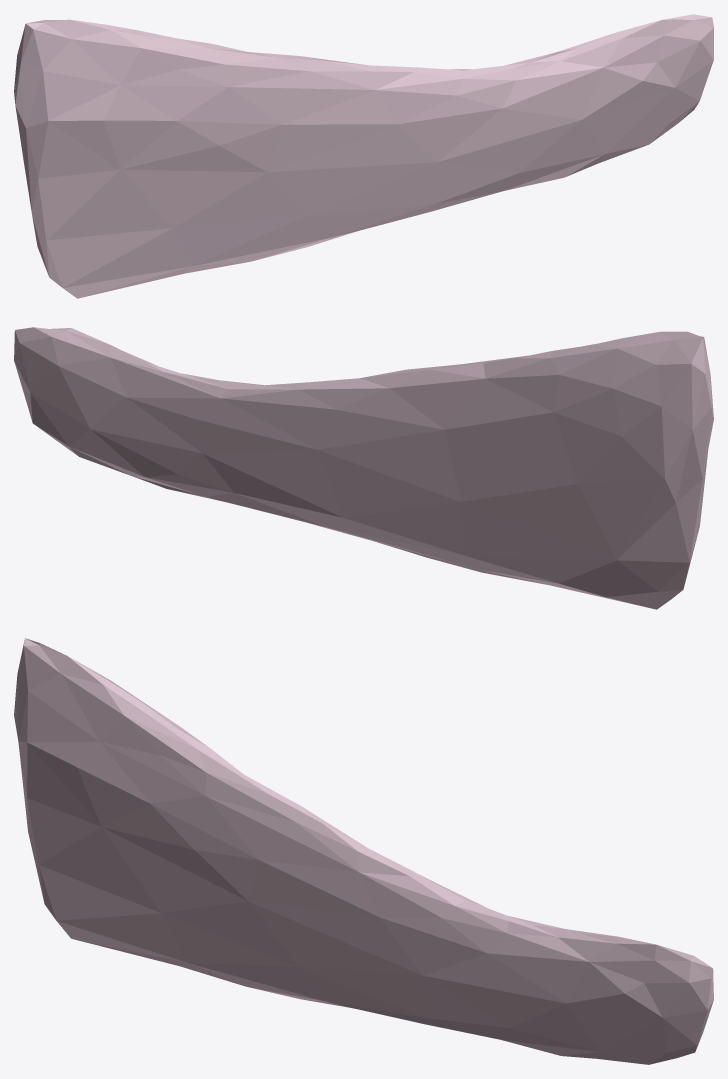
The picture shows the model from 3 angles, top to bottom: view 1: azimuth 30°, elevation 25°; view 2: azimuth 150°, elevation 25°; view 3: azimuth 330°, elevation 25°; orthographic projection.
Parts seen in each view (by area): view 1: 222.obj; view 2: 222.obj; view 3: 222.obj.
Boxes of the visible parts, x1,y1,x2,y2 form: 222.obj: (14, 14, 713, 298); 222.obj: (14, 327, 713, 609); 222.obj: (14, 638, 713, 1064).
Bounding box in the file's own units: 1389 × 553 × 89.87.
